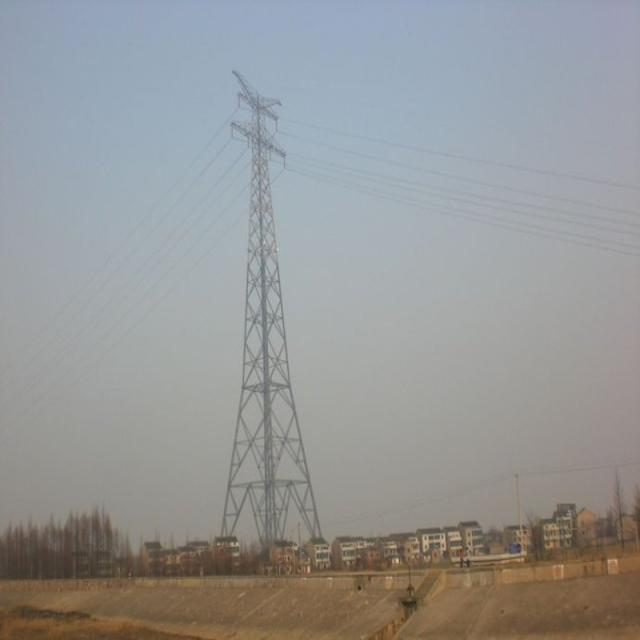non-critical vegetation: (210, 62, 330, 573)
